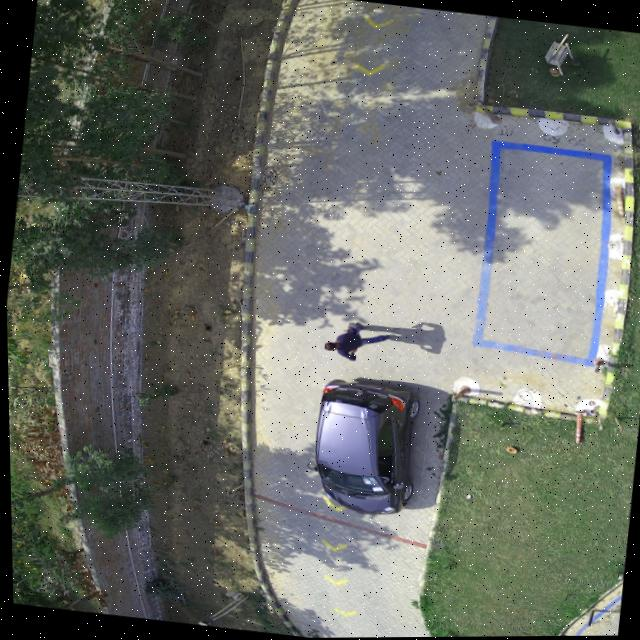car: (310, 379, 417, 515)
